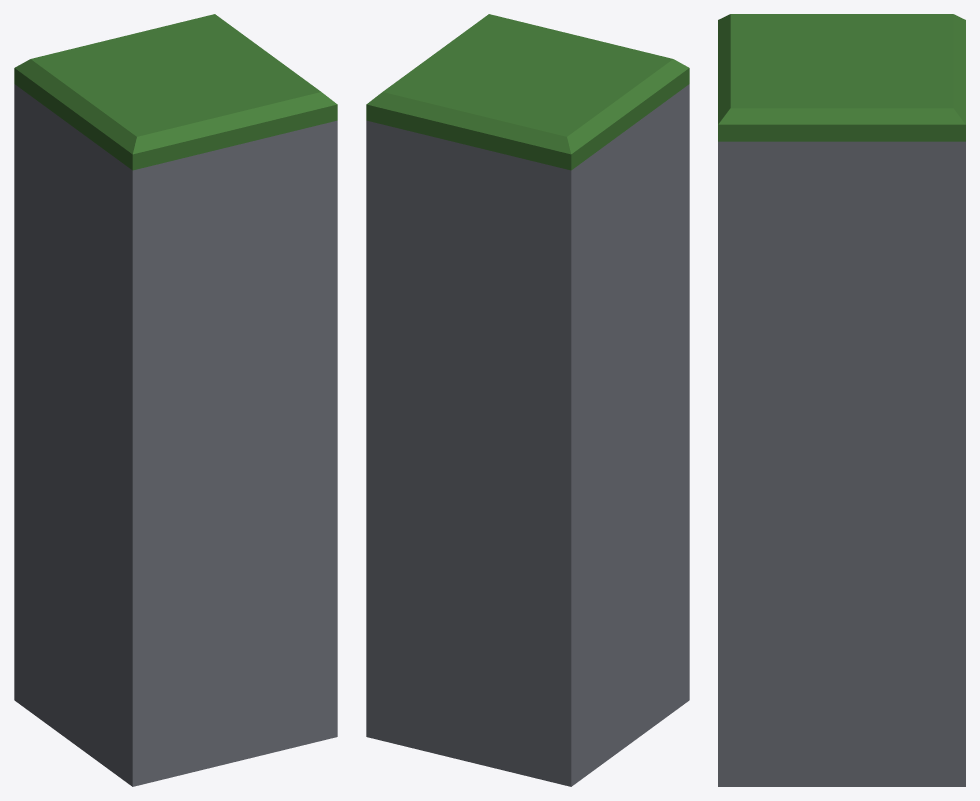
The model's file is Cliff2.fbx.
The picture shows the model from 3 angles, left to right: view 1: azimuth 30°, elevation 25°; view 2: azimuth 150°, elevation 25°; view 3: azimuth 270°, elevation 25°; orthographic projection. The views are drawn at different scales.
Visible parts, largest first — view 1: Cube; view 2: Cube; view 3: Cube.
Boxes of the visible parts, left/top/right/bottom form: Cube: left=14, top=14, right=337, bottom=786; Cube: left=366, top=14, right=689, bottom=786; Cube: left=718, top=14, right=965, bottom=786.
Size of the model in its own units: 2 by 6 by 2.
